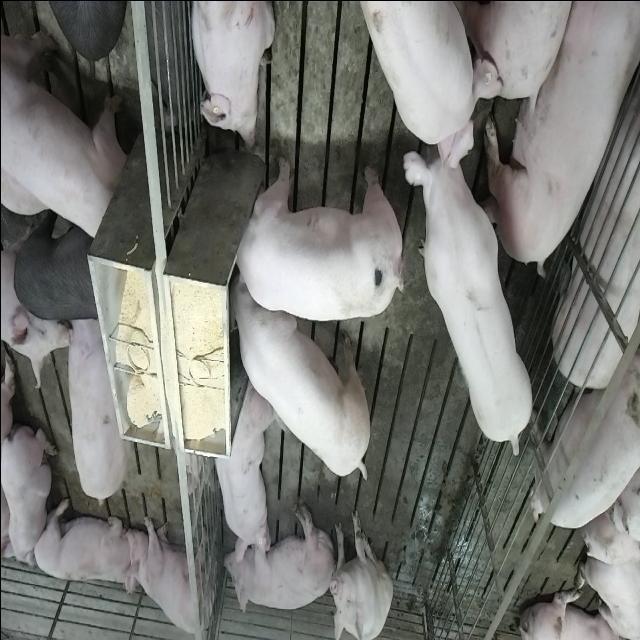Feeding: (228, 271, 376, 481), (232, 156, 408, 322)
Lateral_lying: (480, 0, 636, 272), (222, 502, 337, 616)
Sitting: (327, 506, 392, 638)
Standing: (401, 107, 531, 455), (550, 65, 640, 397), (1, 17, 126, 246), (354, 0, 504, 158), (529, 332, 640, 536), (61, 314, 128, 508), (131, 509, 212, 636), (10, 215, 99, 324)
Sternal_lying: (186, 0, 274, 150), (209, 382, 276, 564), (31, 500, 133, 598), (0, 419, 54, 575)
